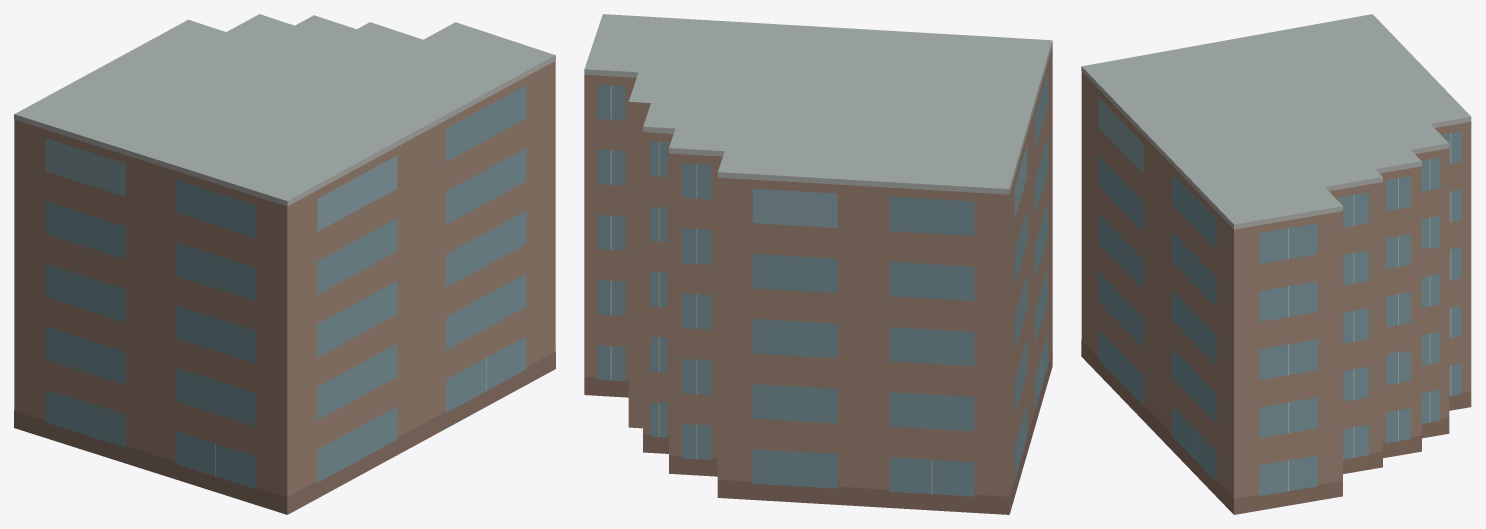
File: survey-upis-32751701.glb
The picture shows the model from 3 angles, left to right: view 1: azimuth 30°, elevation 25°; view 2: azimuth 150°, elevation 25°; view 3: azimuth 270°, elevation 25°; orthographic projection. The views are drawn at different scales.
Visible parts, largest first — view 1: survey-upis-32751701.tmp; view 2: survey-upis-32751701.tmp; view 3: survey-upis-32751701.tmp.
Part boxes in pixels (x1,y1,x2,y2): survey-upis-32751701.tmp: (14,14,555,514); survey-upis-32751701.tmp: (584,14,1052,514); survey-upis-32751701.tmp: (1081,14,1471,514).
Bounding box in the file's own units: 22.27 × 14.3 × 17.42.
